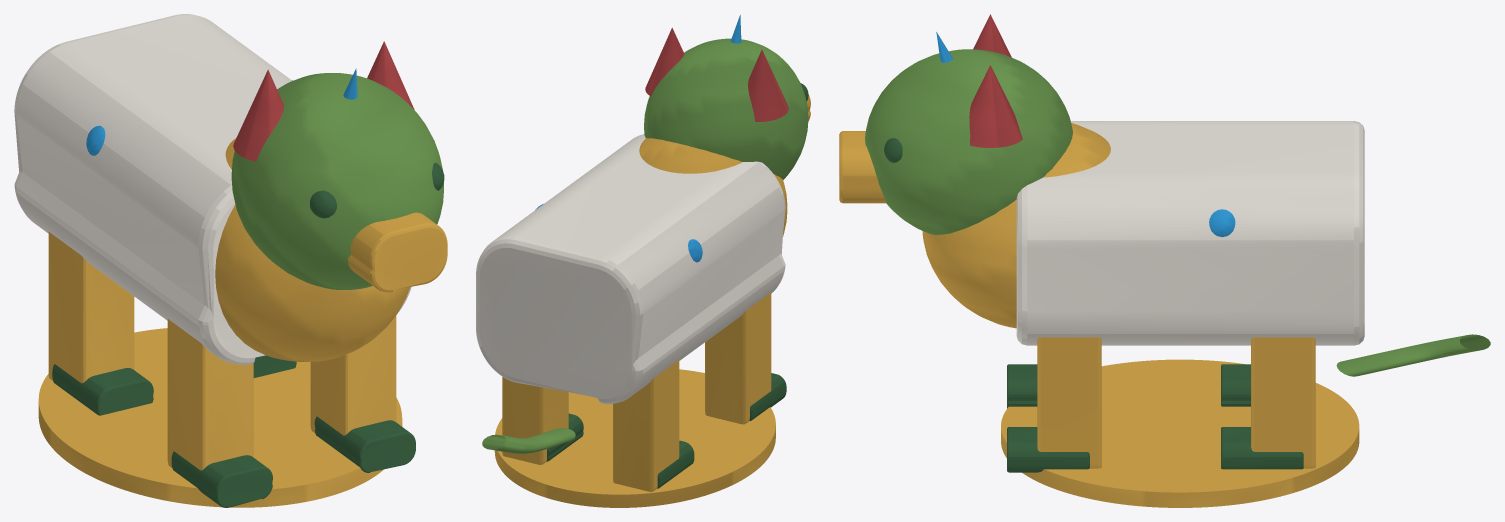
File: 0143_恐龙图鉴_阿根廷龙.glb
3 views of the same model, side by side, from view 1: azimuth 30°, elevation 25°; view 2: azimuth 150°, elevation 25°; view 3: azimuth 270°, elevation 25° (orthographic). The views are drawn at different scales.
Visible parts, largest first — view 1: card_0143; view 2: card_0143; view 3: card_0143.
Part boxes in pixels (box(x1,y1,x2,y2)): card_0143: box(14, 14, 447, 507); card_0143: box(476, 15, 810, 507); card_0143: box(839, 14, 1490, 507).
Bounding box in the file's own units: 0.6948 × 1 × 1.44.
